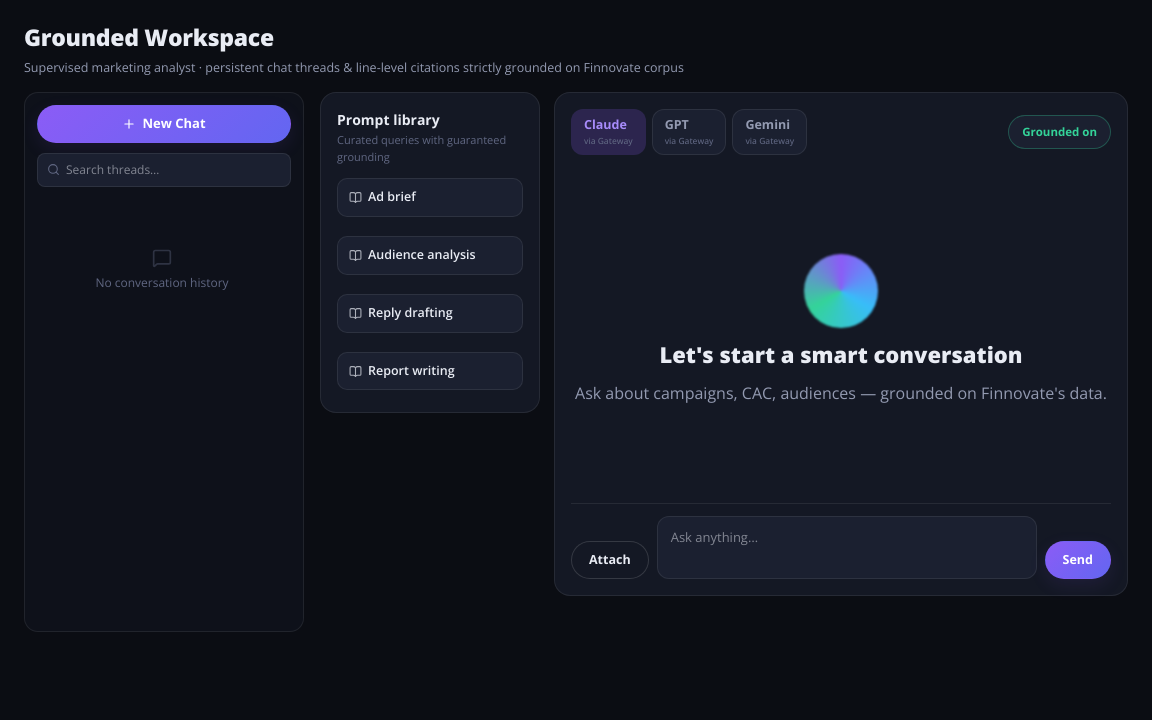
Scenario: workspace › sending routes the question through the action and reveals the reply
The width and height of the screenshot is (1152, 720).
Type "How is CAC trending?" into the text box with placeholder "Ask anything…" at x=847, y=548, box [657,516,1037,579]
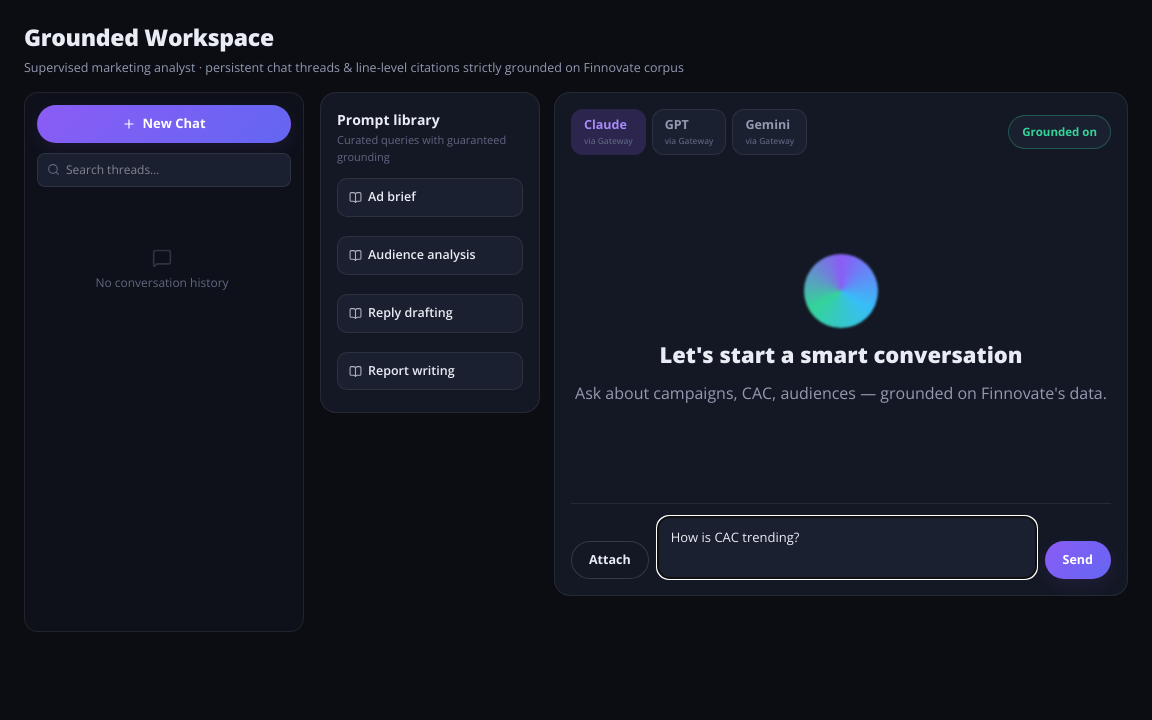
Click the button "Send" at x=1078, y=560, box [1045,540,1111,579]
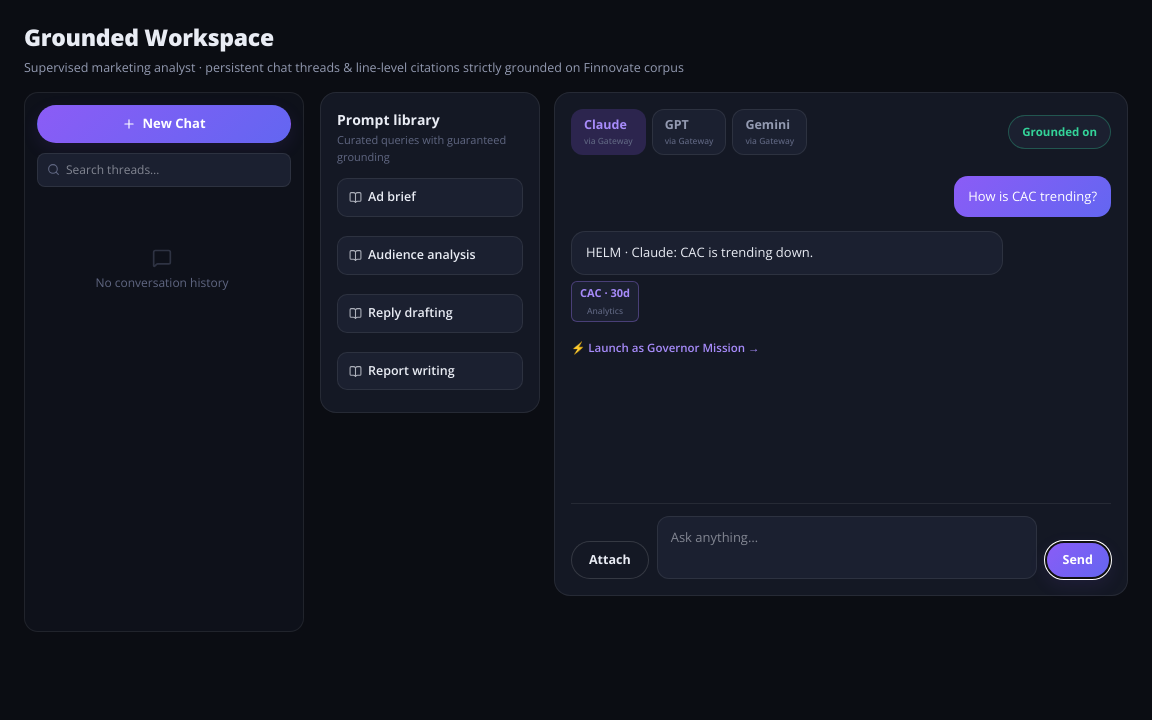
Result: the text "How is CAC trending?" is shown at [954,176,1111,217]
Result: the text "HELM · Claude: CAC is trending down." is shown at [586,243,813,261]
Result: the button "CAC · 30d Analytics" is shown at [571,281,639,322]
